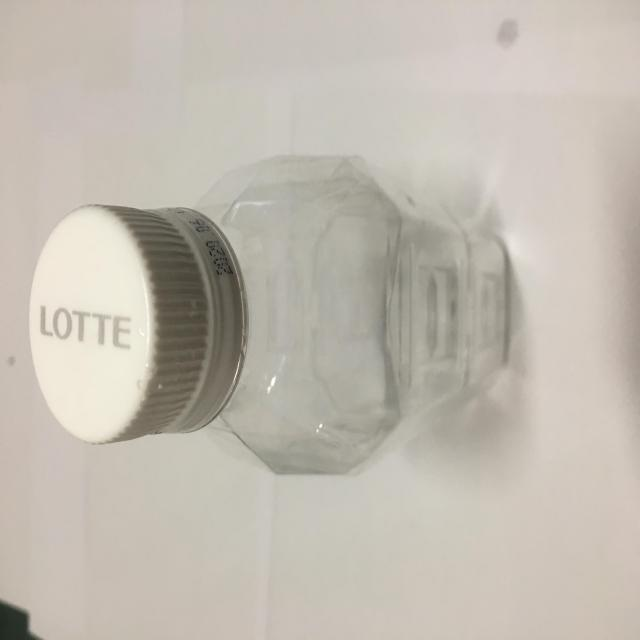plasticbottle: (11, 132, 534, 548)
plasticbottlecap: (14, 190, 258, 452)
